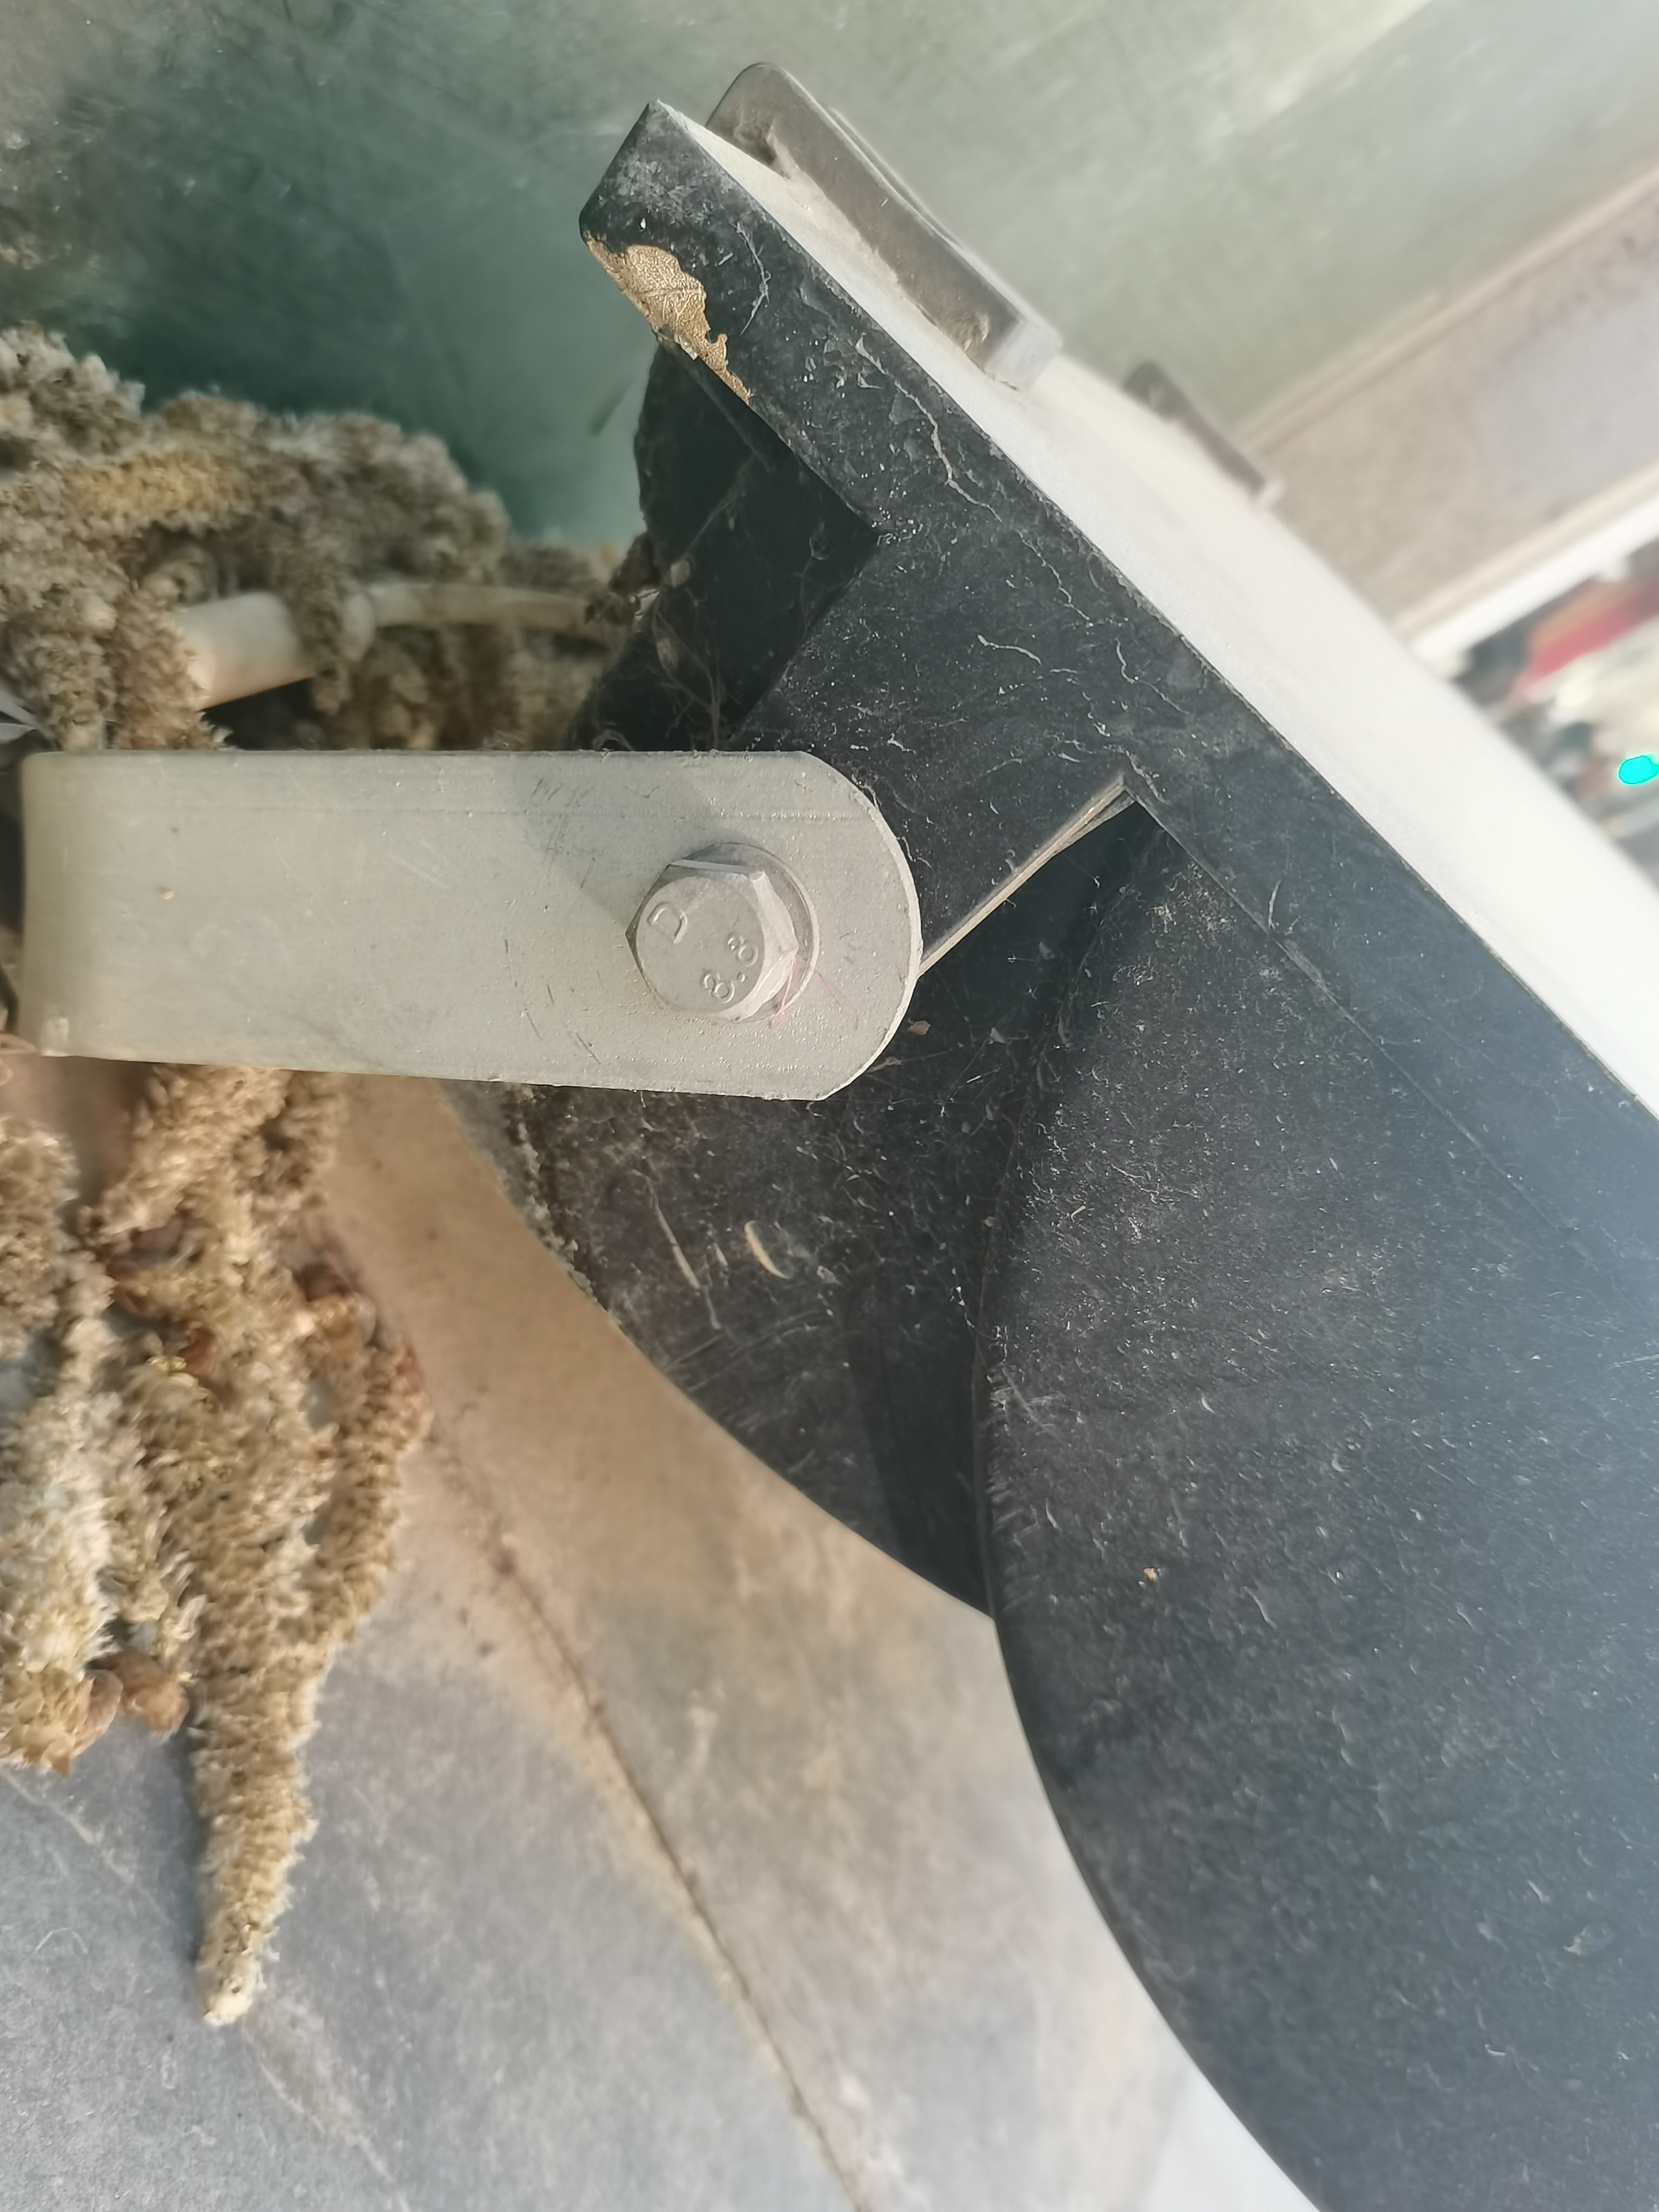bolt_a: (619, 855, 803, 1028)
